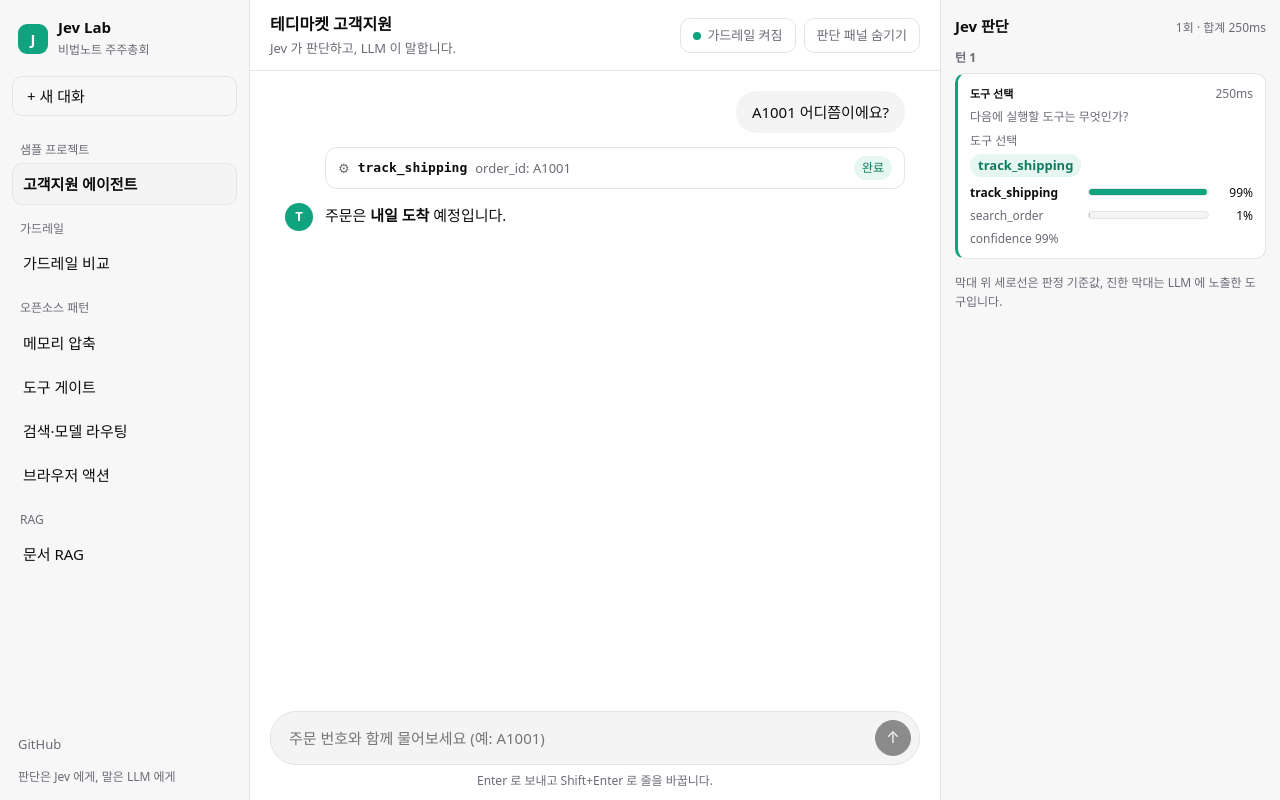
Test: App › should switch to the document RAG tab on click
Click the tab "문서 RAG": point(124, 554) [12,533,237,575]
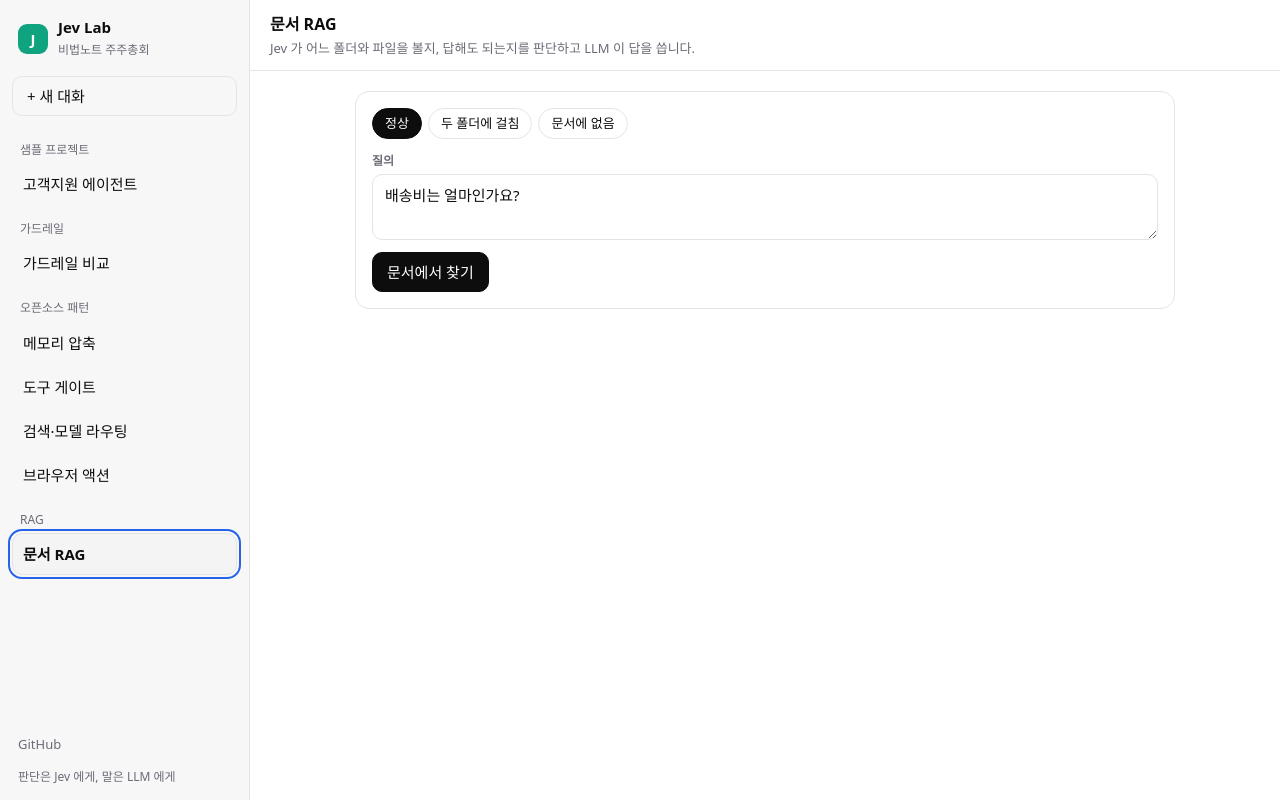
Expected: the heading "문서 RAG" is shown, [270,13,336,35]
Expected: the button "문서에서 찾기" is shown, [372,252,489,292]
